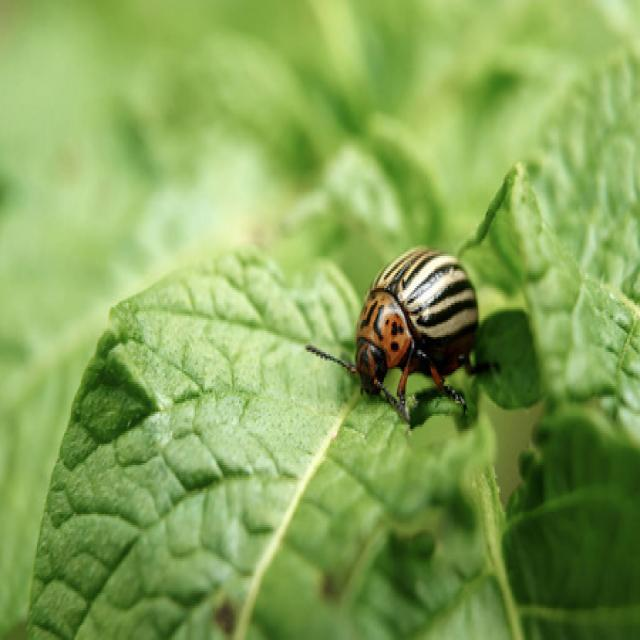ShuCaiHuaBanChong-Grown-: (341, 241, 486, 409)
